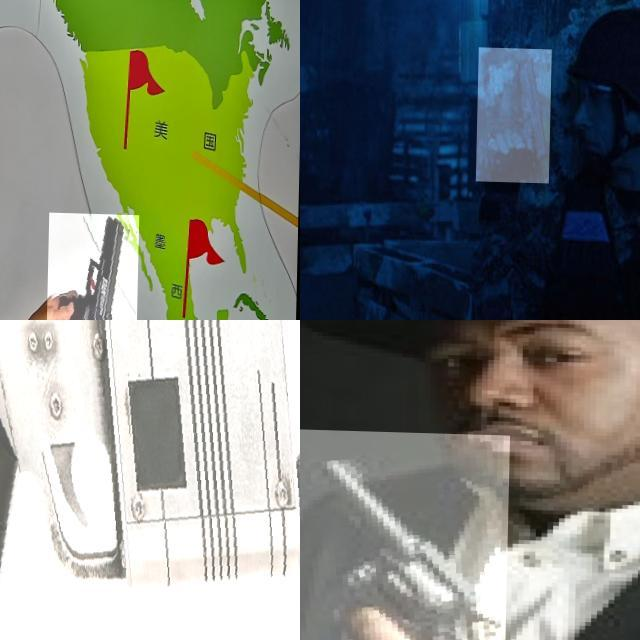gun-knife-thesis - v11 Yolov5 augmented: (0, 320, 300, 640), (300, 428, 511, 640), (477, 46, 553, 181), (49, 210, 141, 320)
